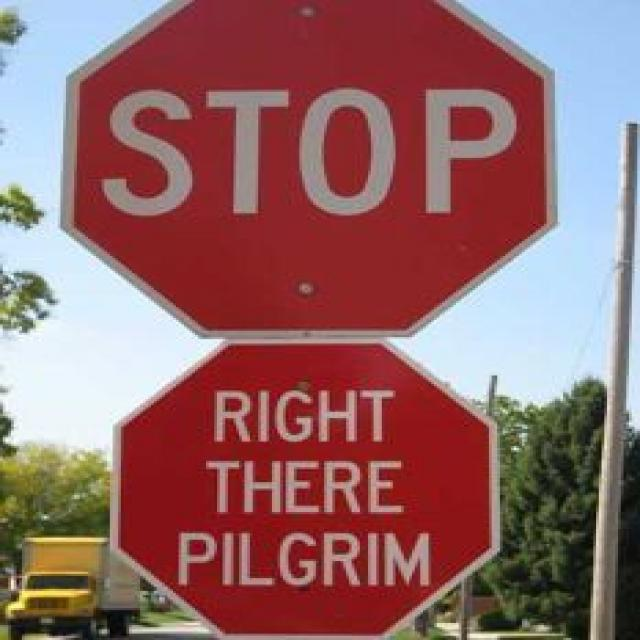stop: (58, 0, 558, 339), (108, 340, 501, 637)
